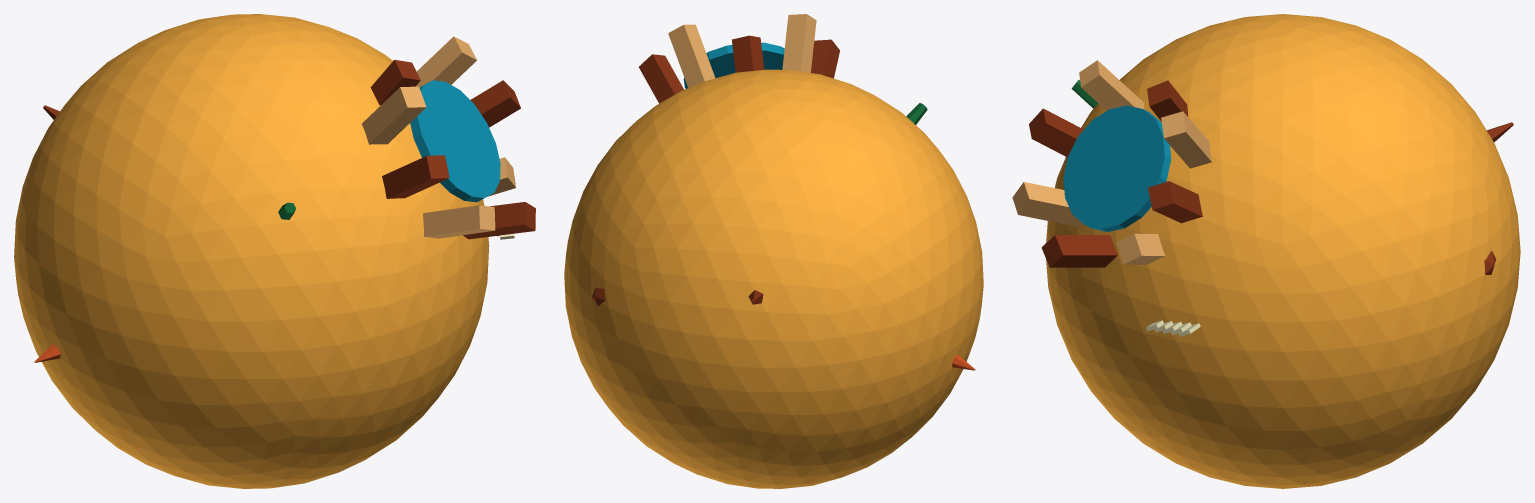
Rendered from Desert_09.fbx.
3 renders of one model, left to right at view 1: azimuth 30°, elevation 25°; view 2: azimuth 150°, elevation 25°; view 3: azimuth 270°, elevation 25°, orthographic. The views are drawn at different scales.
Visible parts, largest first — view 1: Desert_09; view 2: Desert_09; view 3: Desert_09.
Boxes of the visible parts, x1,y1,x2,y2 form: Desert_09: (14, 14, 535, 488); Desert_09: (564, 14, 983, 488); Desert_09: (1012, 14, 1520, 488).
Size of the model in its own units: 6.29 by 6.04 by 6.42.
Materials: 1 (1 with a texture image).
